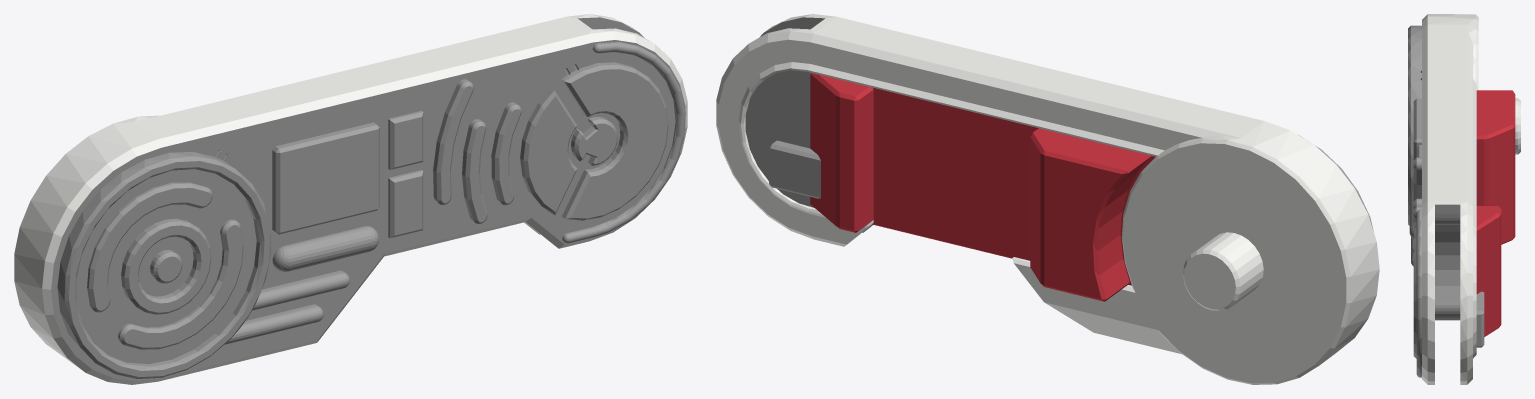
File: mid_leg_l_m.dae
3 renders of one model, left to right at view 1: azimuth 30°, elevation 25°; view 2: azimuth 150°, elevation 25°; view 3: azimuth 270°, elevation 25°, orthographic. The views are drawn at different scales.
Parts seen in each view (by area): view 1: SketchUp (×20); view 2: SketchUp (×4); view 3: SketchUp (×11).
Part boxes in pixels (bbox=[...]): SketchUp (×20): bbox=[14, 14, 687, 384]; SketchUp (×4): bbox=[716, 14, 1379, 384]; SketchUp (×11): bbox=[1408, 14, 1520, 384].
Size of the model in its own units: 8.75 by 1.57 by 3.14.
